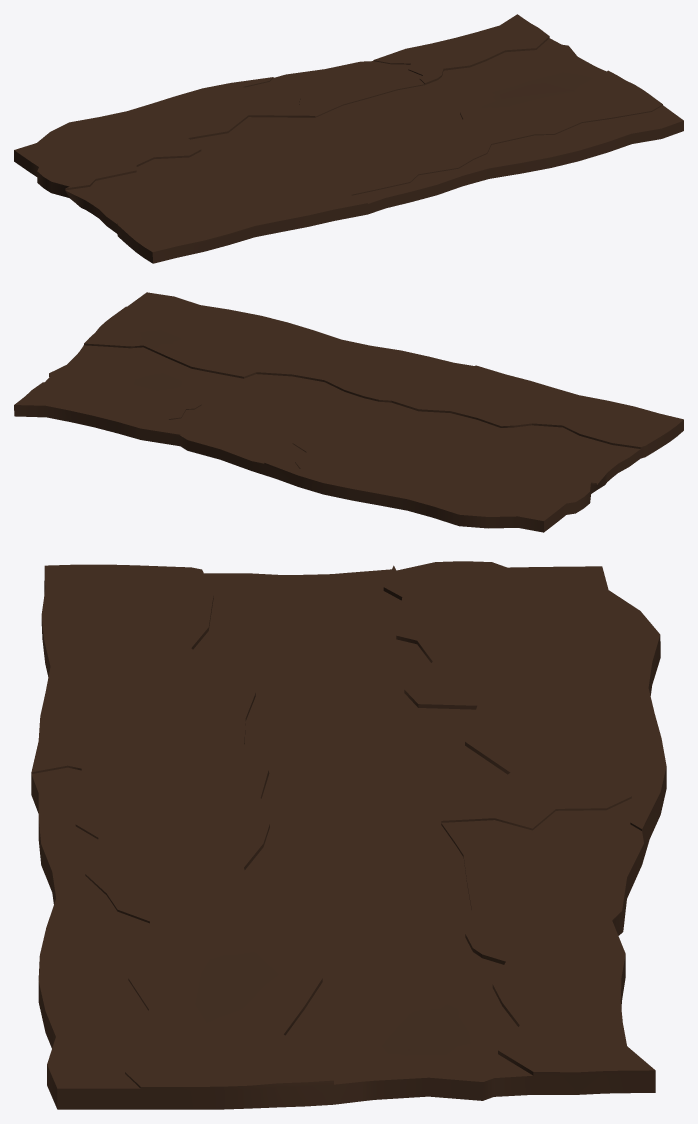
Rendered from DesertBase.fbx.
3 views of the same model, one above another, from view 1: azimuth 30°, elevation 25°; view 2: azimuth 150°, elevation 25°; view 3: azimuth 270°, elevation 25° (orthographic). The views are drawn at different scales.
Parts seen in each view (by area): view 1: pCube41; view 2: pCube41; view 3: pCube41.
Boxes of the visible parts, bbox=[...] form: pCube41: bbox=[14, 14, 683, 263]; pCube41: bbox=[14, 292, 683, 532]; pCube41: bbox=[31, 561, 666, 1109].
Size of the model in its own units: 61.46 by 1.39 by 31.37.
